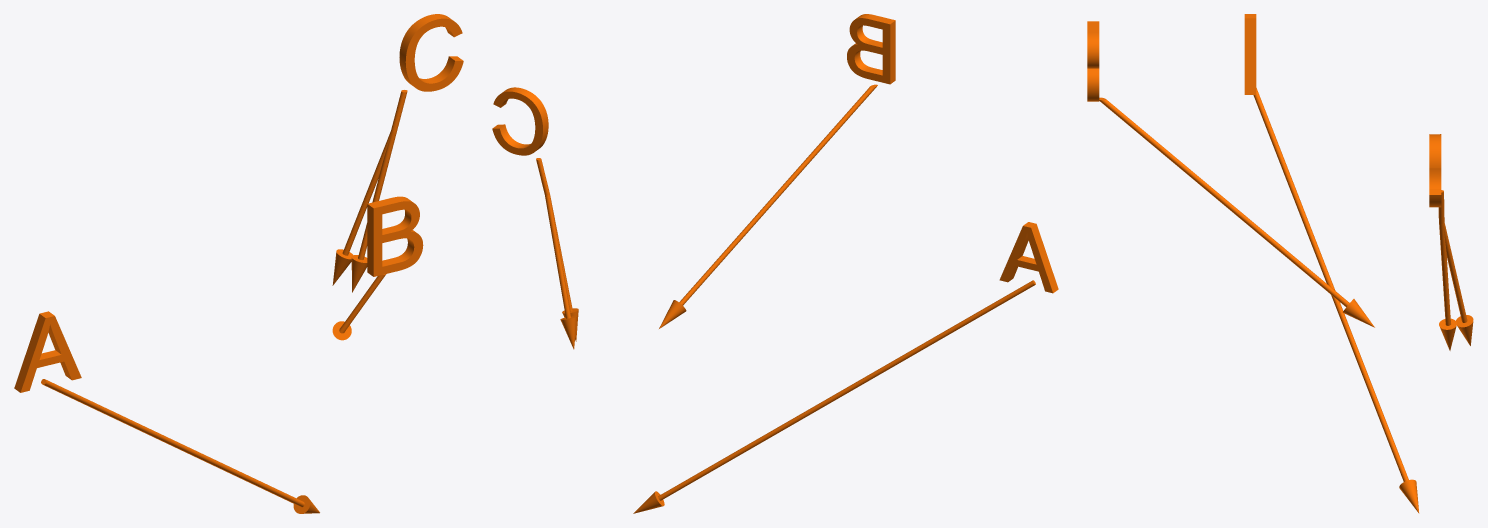
Rendered from s7arrow.glb.
3 renders of one model, left to right at view 1: azimuth 30°, elevation 25°; view 2: azimuth 150°, elevation 25°; view 3: azimuth 270°, elevation 25°, orthographic. The views are drawn at different scales.
Parts seen in each view (by area): view 1: Node; view 2: Node; view 3: Node.
Boxes of the visible parts, bbox=[...] form: Node: bbox=[14, 14, 463, 513]; Node: bbox=[492, 14, 1058, 513]; Node: bbox=[1087, 14, 1473, 513].
Bounding box in the file's own units: 12.38 × 10.13 × 8.13.
